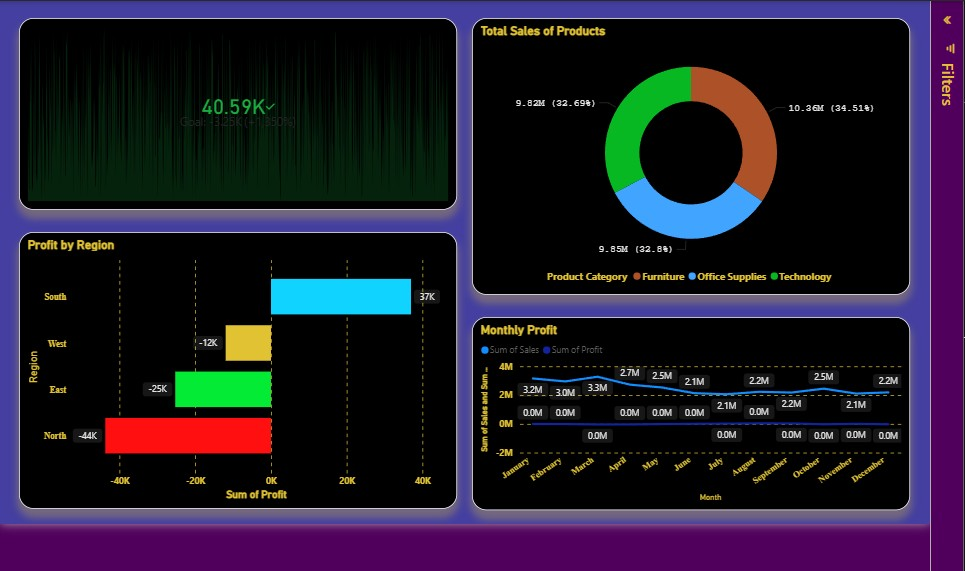

Layout of this report page (visuals, bound fields, positions):
{"tool":"powerbi","page":{"name":"Page 1","canvas":[1280,720],"ordinal":0},"visuals":[{"type":"kpi","fields":{"Indicator":["capstone_sales_dataset.Measure"],"Goal":["Sum(capstone_sales_dataset.Profit)"],"TrendLine":["capstone_sales_dataset.Order_ID"]},"box":[25.7,22.9,602.9,264.3],"z":0},{"type":"lineChart","title":"Monthly Profit","fields":{"Category":["capstone_sales_dataset.Order_Date.Variation.Date Hierarchy.Month"],"Y":["Sum(capstone_sales_dataset.Sales)","Sum(capstone_sales_dataset.Profit)"]},"box":[650,434.3,602.9,265.7],"z":1000},{"type":"clusteredBarChart","title":"Profit by Region","fields":{"Category":["capstone_sales_dataset.Region"],"Y":["Sum(capstone_sales_dataset.Profit)"]},"box":[25.7,318.6,602.9,381.4],"z":2000},{"type":"donutChart","title":"Total Sales of Products","fields":{"Y":["Sum(capstone_sales_dataset.Sales)"],"Series":["capstone_sales_dataset.Product_Category"]},"box":[650,22.9,602.9,381.4],"z":3000}]}

Visuals, with their boxes in screenshot pixels (x1, y1, x2, y2):
kpi - capstone_sales_dataset.Measure x Sum(capstone_sales_dataset.Profit): 23/19/456/208
"Monthly Profit" lineChart: 471/314/904/505
"Profit by Region" clusteredBarChart: 23/231/456/505
"Total Sales of Products" donutChart: 471/19/904/292
